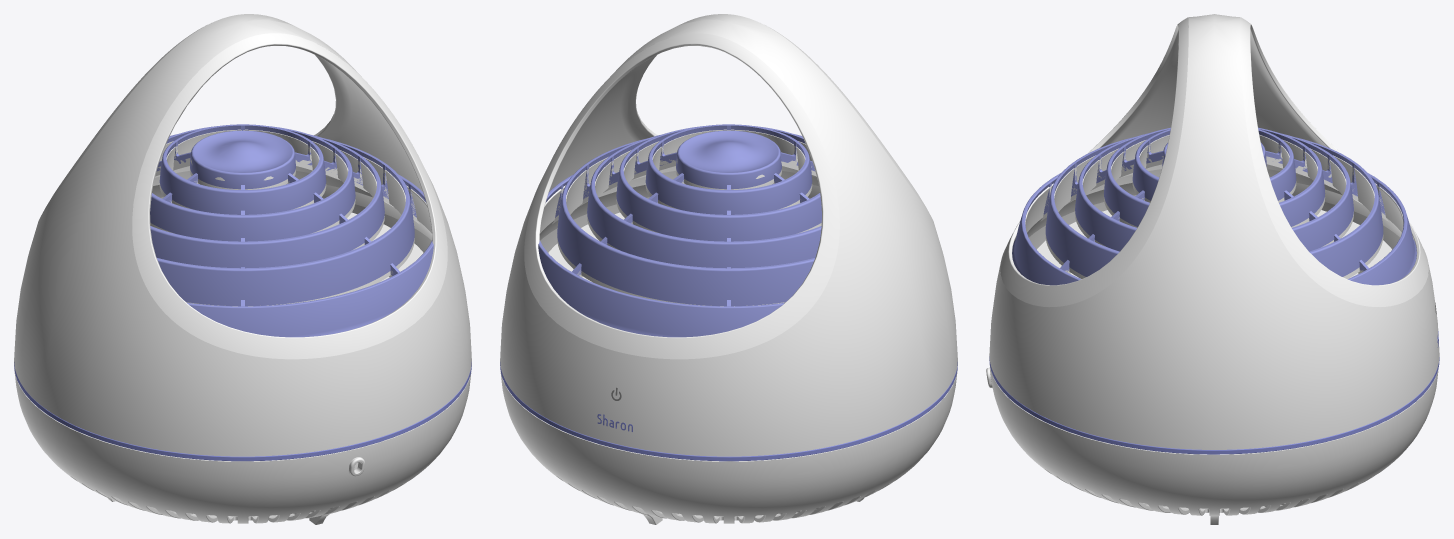
File: jd030_web.glb
3 views of the same model, side by side, from view 1: azimuth 30°, elevation 25°; view 2: azimuth 150°, elevation 25°; view 3: azimuth 270°, elevation 25° (orthographic).
Parts seen in each view (by area): view 1: Default(A0E2FBDB-BD1F-4960-B00B-047B2CF3DC3B), Default(43A79FDB-B0E8-4287-A145-D759CD28C490), Default(04B9DAEA-6DEA-4F50-8520-AA7799F1656C), Default(88C499B9-9A26-44D6-A5F1-2CABFFDC066B), Default(43A79FDB-B0E8-4287-A145-D759CD28C490) #1, Default(4F3C0EDF-FC6B-4272-82AA-F7B236C6E75B), Default(7A522C88-660D-47D6-AEF3-AF2B7F7E0B92); view 2: Default(A0E2FBDB-BD1F-4960-B00B-047B2CF3DC3B), Default(43A79FDB-B0E8-4287-A145-D759CD28C490), Default(04B9DAEA-6DEA-4F50-8520-AA7799F1656C), Default(7A522C88-660D-47D6-AEF3-AF2B7F7E0B92), Default(43A79FDB-B0E8-4287-A145-D759CD28C490) #1, Default(4F3C0EDF-FC6B-4272-82AA-F7B236C6E75B), Default(88C499B9-9A26-44D6-A5F1-2CABFFDC066B); view 3: Default(A0E2FBDB-BD1F-4960-B00B-047B2CF3DC3B), Default(04B9DAEA-6DEA-4F50-8520-AA7799F1656C), Default(43A79FDB-B0E8-4287-A145-D759CD28C490), Default(43A79FDB-B0E8-4287-A145-D759CD28C490) #1, Default(88C499B9-9A26-44D6-A5F1-2CABFFDC066B), Default(7A522C88-660D-47D6-AEF3-AF2B7F7E0B92), Default(4F3C0EDF-FC6B-4272-82AA-F7B236C6E75B), Default(F20CDB40-0197-4F49-A422-AA6C9BAFCD91).
Part boxes in pixels (bbox=[...]): Default(A0E2FBDB-BD1F-4960-B00B-047B2CF3DC3B): bbox=[14, 14, 471, 456]; Default(43A79FDB-B0E8-4287-A145-D759CD28C490): bbox=[150, 124, 433, 337]; Default(04B9DAEA-6DEA-4F50-8520-AA7799F1656C): bbox=[14, 370, 471, 524]; Default(88C499B9-9A26-44D6-A5F1-2CABFFDC066B): bbox=[132, 33, 447, 359]; Default(43A79FDB-B0E8-4287-A145-D759CD28C490) #1: bbox=[150, 129, 432, 306]; Default(4F3C0EDF-FC6B-4272-82AA-F7B236C6E75B): bbox=[14, 362, 471, 461]; Default(7A522C88-660D-47D6-AEF3-AF2B7F7E0B92): bbox=[41, 25, 206, 215]; Default(A0E2FBDB-BD1F-4960-B00B-047B2CF3DC3B): bbox=[500, 14, 957, 456]; Default(43A79FDB-B0E8-4287-A145-D759CD28C490): bbox=[538, 124, 821, 337]; Default(04B9DAEA-6DEA-4F50-8520-AA7799F1656C): bbox=[500, 370, 957, 524]; Default(7A522C88-660D-47D6-AEF3-AF2B7F7E0B92): bbox=[524, 33, 839, 359]; Default(43A79FDB-B0E8-4287-A145-D759CD28C490) #1: bbox=[539, 129, 821, 306]; Default(4F3C0EDF-FC6B-4272-82AA-F7B236C6E75B): bbox=[500, 362, 957, 461]; Default(88C499B9-9A26-44D6-A5F1-2CABFFDC066B): bbox=[765, 25, 930, 215]; Default(A0E2FBDB-BD1F-4960-B00B-047B2CF3DC3B): bbox=[989, 14, 1439, 449]; Default(04B9DAEA-6DEA-4F50-8520-AA7799F1656C): bbox=[986, 365, 1438, 524]; Default(43A79FDB-B0E8-4287-A145-D759CD28C490): bbox=[1012, 127, 1416, 285]; Default(43A79FDB-B0E8-4287-A145-D759CD28C490) #1: bbox=[1025, 135, 1403, 278]; Default(88C499B9-9A26-44D6-A5F1-2CABFFDC066B): bbox=[1000, 17, 1188, 307]; Default(7A522C88-660D-47D6-AEF3-AF2B7F7E0B92): bbox=[1240, 17, 1428, 306]; Default(4F3C0EDF-FC6B-4272-82AA-F7B236C6E75B): bbox=[989, 356, 1439, 454]; Default(F20CDB40-0197-4F49-A422-AA6C9BAFCD91): bbox=[1037, 210, 1391, 278].
Size of the model in its own units: 0.1116 by 0.1199 by 0.1124.
19 materials, 7 textured.
